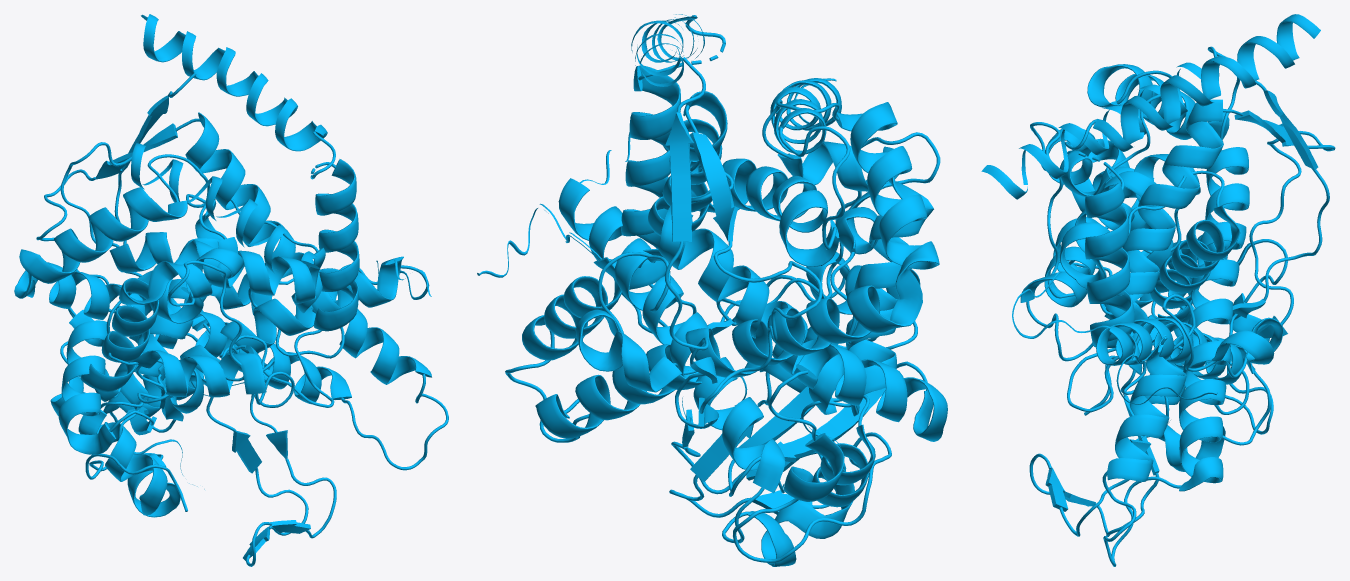
The model's file is cyp450.glb.
3 renders of one model, left to right at view 1: azimuth 30°, elevation 25°; view 2: azimuth 150°, elevation 25°; view 3: azimuth 270°, elevation 25°, orthographic. The views are drawn at different scales.
Parts seen in each view (by area): view 1: node-geom0.001, node-geom2.001, node-geom1.001, node-geom3.001; view 2: node-geom1.001, node-geom2.001, node-geom0.001, node-geom3.001; view 3: node-geom2.001, node-geom0.001, node-geom3.001, node-geom1.001.
Part boxes in pixels (x1,y1,x2,y2): node-geom0.001: (50, 14, 359, 511); node-geom2.001: (14, 154, 448, 489); node-geom1.001: (60, 142, 431, 517); node-geom3.001: (36, 72, 336, 566); node-geom1.001: (558, 78, 875, 566); node-geom2.001: (477, 99, 939, 493); node-geom0.001: (575, 14, 947, 562); node-geom3.001: (638, 57, 940, 517); node-geom2.001: (1045, 64, 1249, 566); node-geom0.001: (1020, 14, 1320, 434); node-geom3.001: (1029, 80, 1335, 536); node-geom1.001: (981, 46, 1271, 471).
Size of the model in its own units: 56.28 by 64.28 by 42.32.
